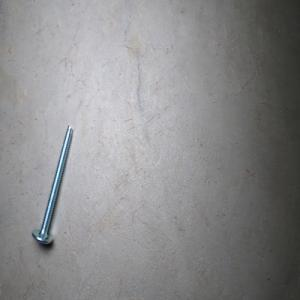Bolt: (31, 124, 73, 245)
